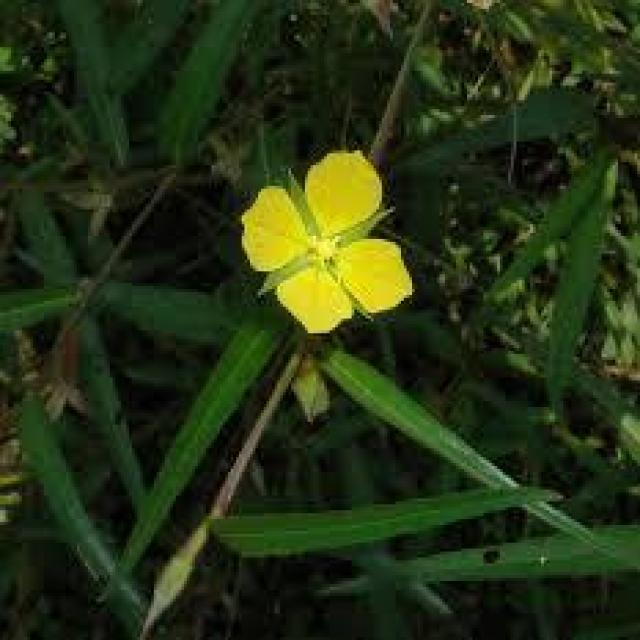organic waste: (232, 143, 419, 332)
